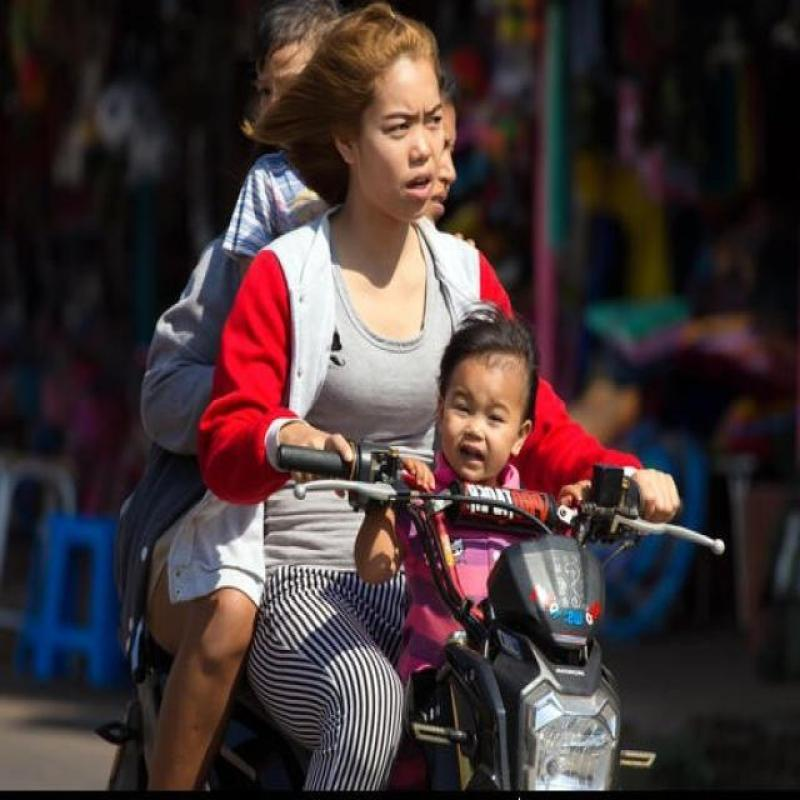nohelmet: (320, 21, 450, 210), (428, 314, 549, 474)
